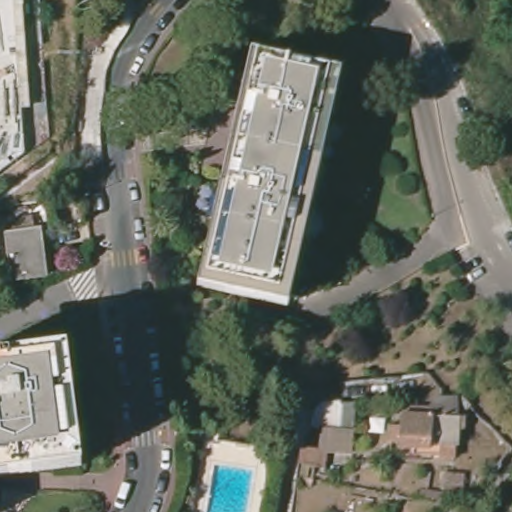pool: (205, 460, 255, 512)
